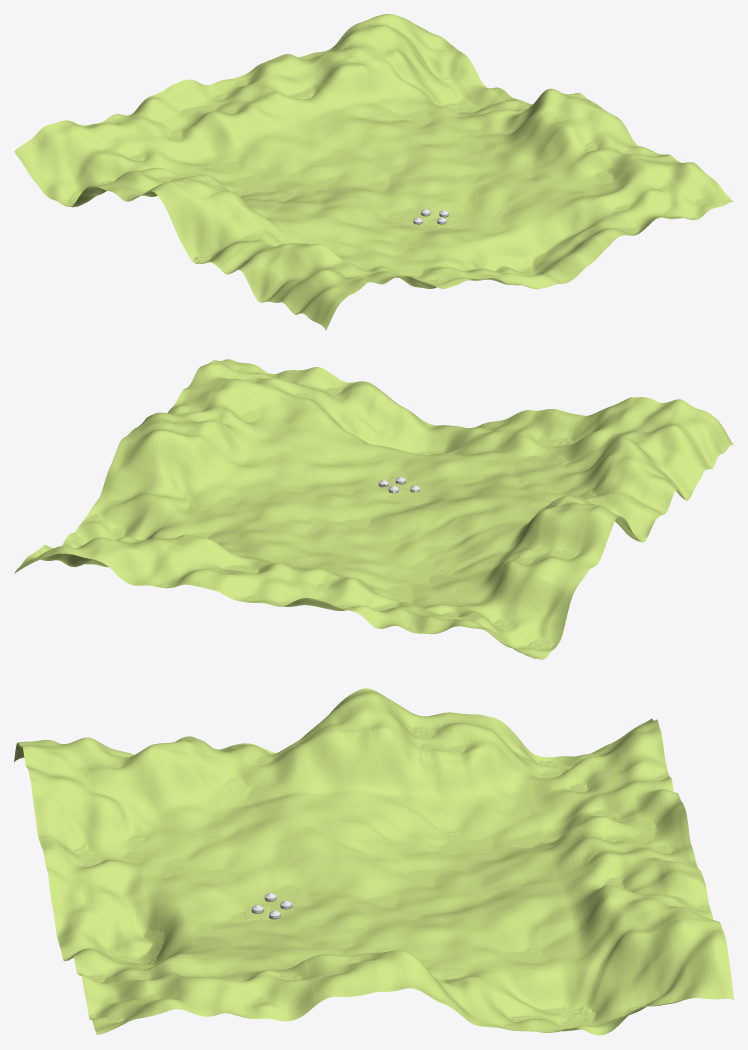
File: véráldozat.fbx
The picture shows the model from 3 angles, top to bottom: view 1: azimuth 30°, elevation 25°; view 2: azimuth 150°, elevation 25°; view 3: azimuth 270°, elevation 25°; orthographic projection. The views are drawn at different scales.
Parts seen in each view (by area): view 1: Terrain; view 2: Terrain; view 3: Terrain.
Boxes of the visible parts, x1,y1,x2,y2 form: Terrain: (14, 14, 733, 330); Terrain: (14, 359, 733, 659); Terrain: (14, 688, 733, 1035).
Size of the model in its own units: 46827 by 7594 by 46827.
14 materials, 5 textured.
